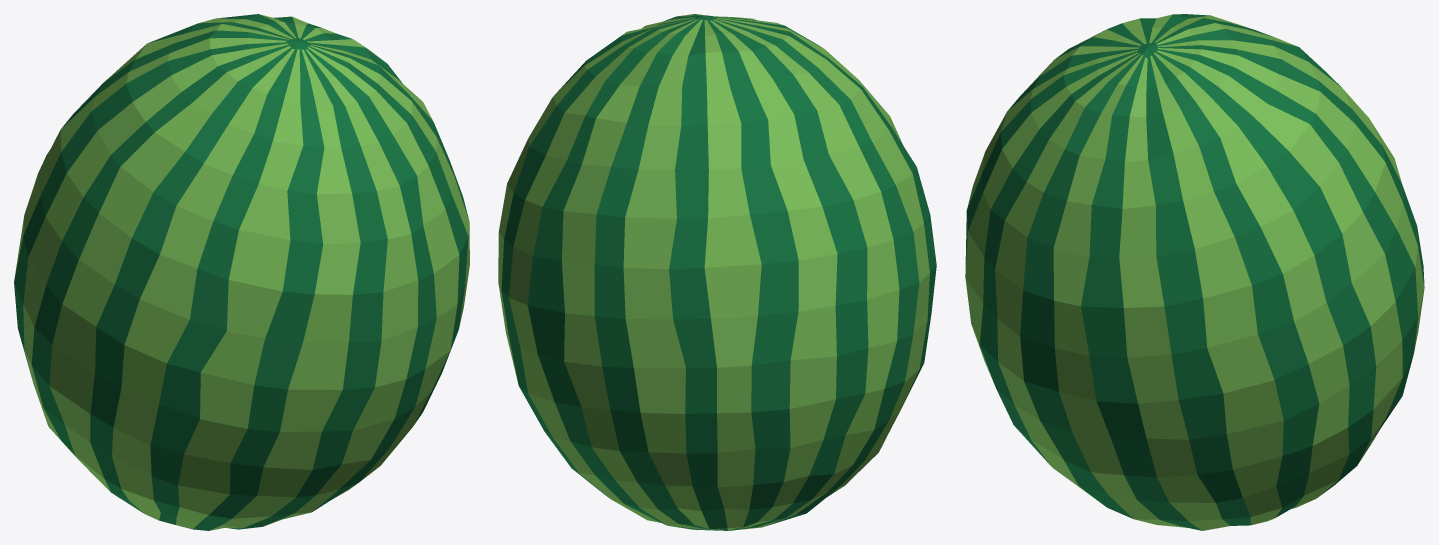
Rendered from anguria.fbx.
3 views of the same model, side by side, from view 1: azimuth 30°, elevation 25°; view 2: azimuth 150°, elevation 25°; view 3: azimuth 270°, elevation 25° (orthographic). The views are drawn at different scales.
Visible parts, largest first — view 1: Anguria; view 2: Anguria; view 3: Anguria.
Boxes of the visible parts, x1,y1,x2,y2 form: Anguria: [14, 14, 469, 530]; Anguria: [498, 14, 936, 530]; Anguria: [965, 14, 1424, 530].
Bounding box in the file's own units: 42.35 × 49.9 × 42.45.
